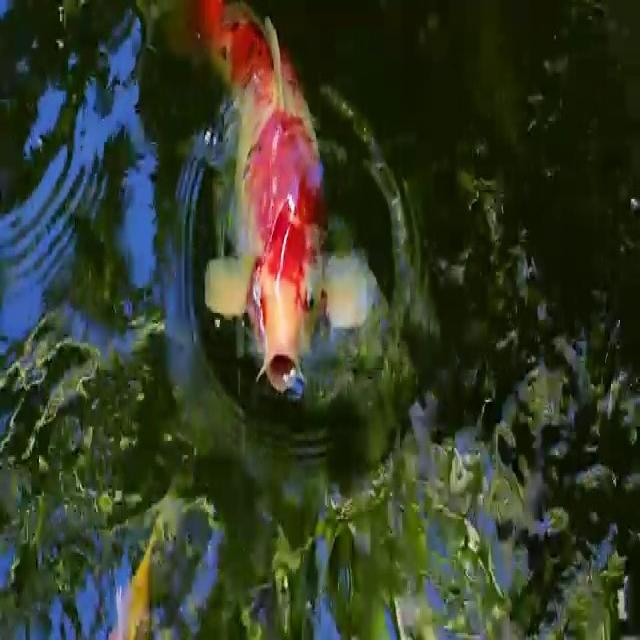fish: (198, 0, 381, 417), (102, 492, 169, 640)
